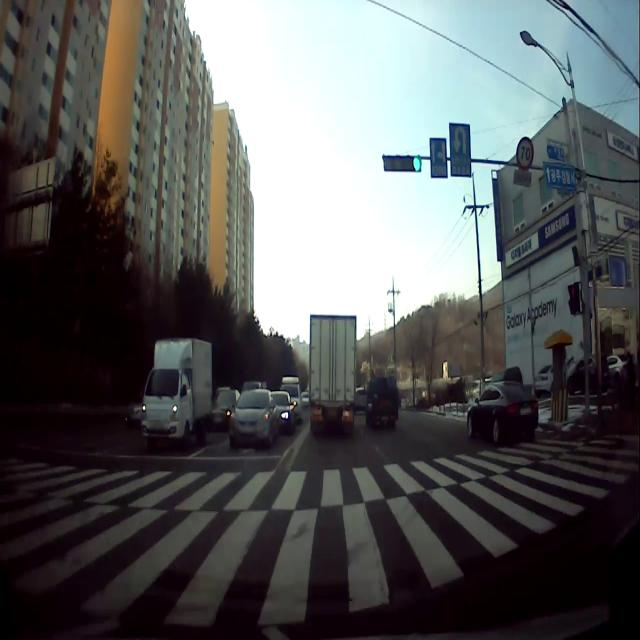Green Light: (412, 155, 422, 173)
